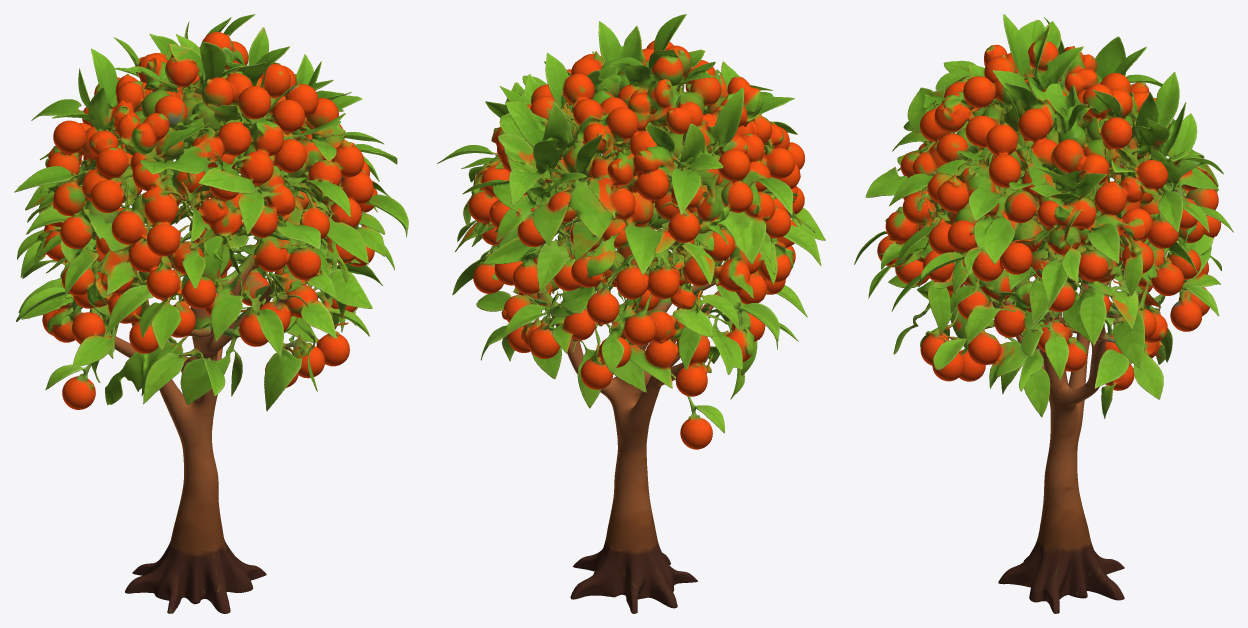
File: mata_frutifera.glb
The picture shows the model from 3 angles, left to right: view 1: azimuth 30°, elevation 25°; view 2: azimuth 150°, elevation 25°; view 3: azimuth 270°, elevation 25°; orthographic projection. The views are drawn at different scales.
Size of the model in its own units: 1.21 by 1.9 by 1.17.
Materials: 1 (1 with a texture image).
